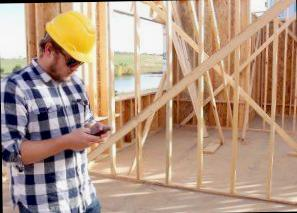helmet: (36, 7, 104, 65)
no_vest: (2, 66, 98, 210)
person: (0, 13, 104, 213)
